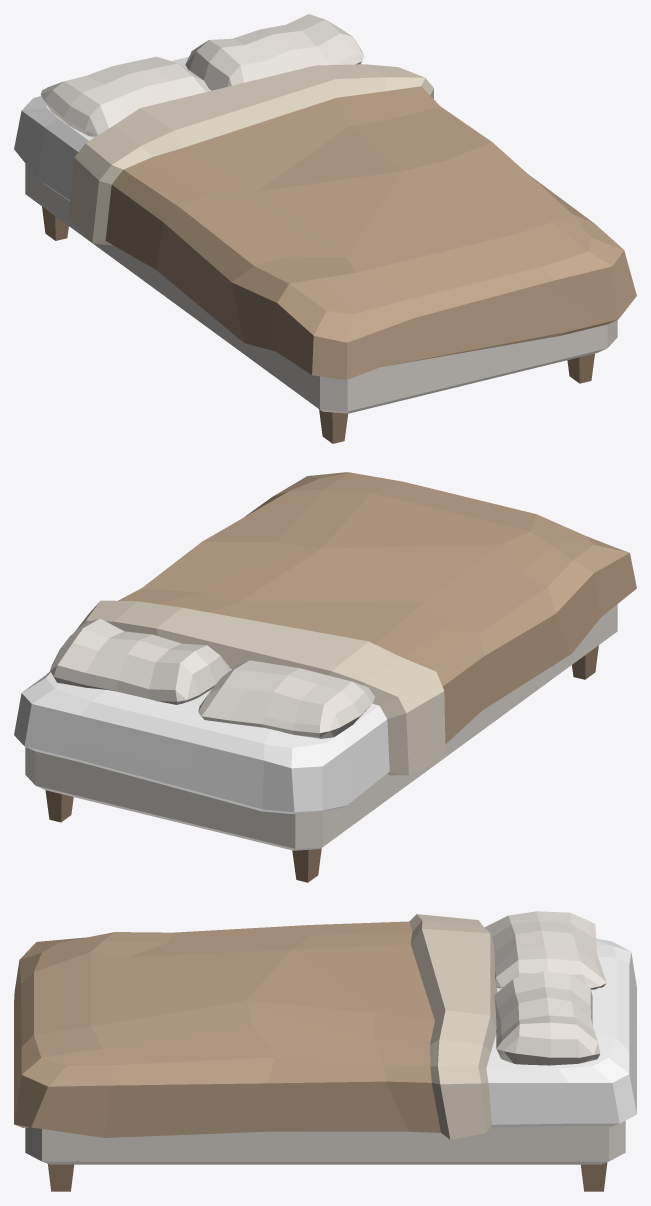
File: SM_Prop_Bed_Single_01.fbx
3 renders of one model, top to bottom at view 1: azimuth 30°, elevation 25°; view 2: azimuth 150°, elevation 25°; view 3: azimuth 270°, elevation 25°, orthographic. The views are drawn at different scales.
Visible parts, largest first — view 1: SM_Prop_Bed_Single_01; view 2: SM_Prop_Bed_Single_01; view 3: SM_Prop_Bed_Single_01.
Boxes of the visible parts, x1=… form: SM_Prop_Bed_Single_01: x1=14, y1=14, x2=636, y2=443; SM_Prop_Bed_Single_01: x1=14, y1=472, x2=636, y2=882; SM_Prop_Bed_Single_01: x1=14, y1=911, x2=636, y2=1191.
Bounding box in the file's own units: 169 × 79.5 × 269.
